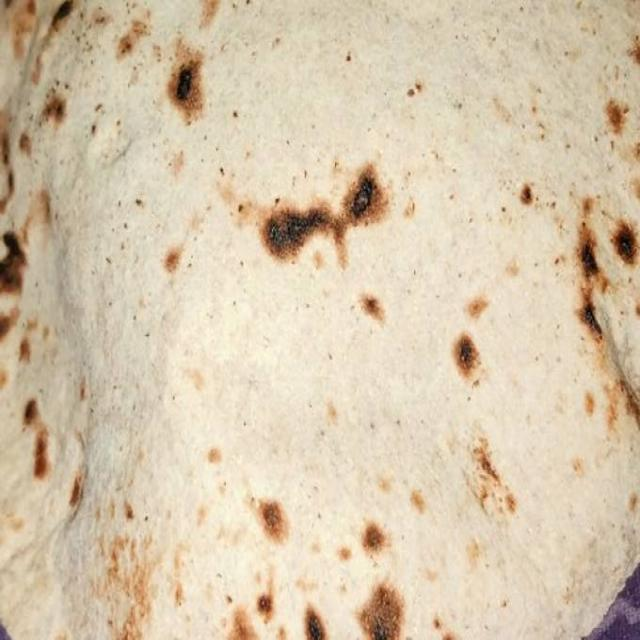ROTI: (1, 5, 637, 637)
